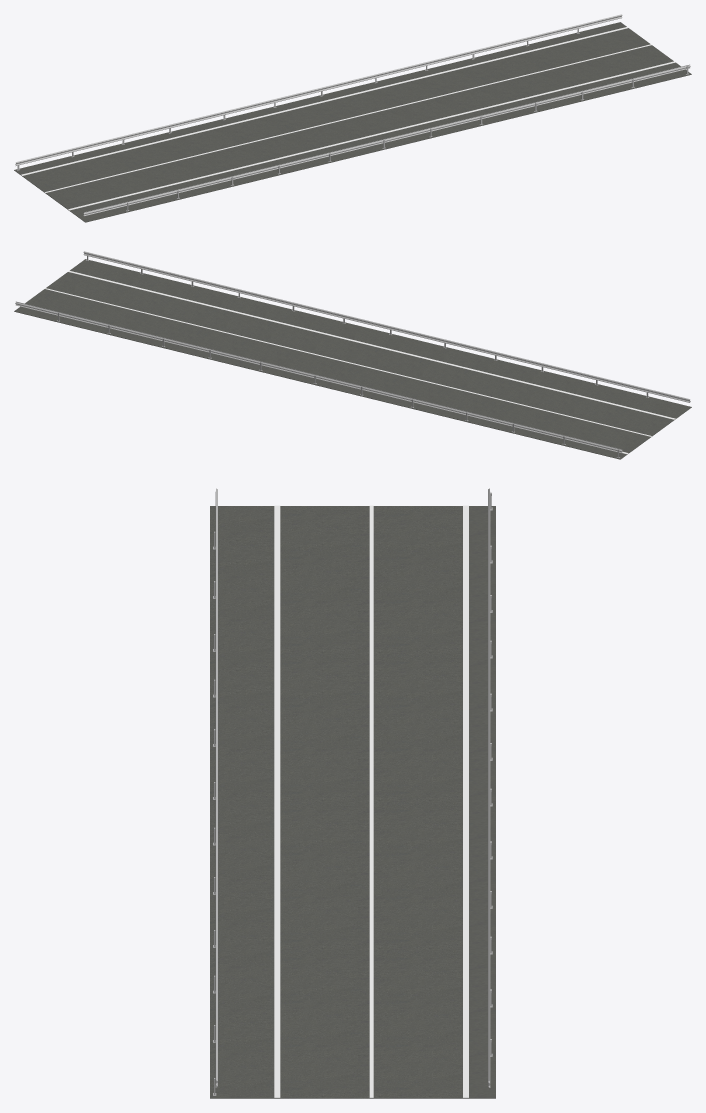
File: sweethome3d-scopia-highway-2-lanes.glb
3 views of the same model, one above another, from view 1: azimuth 30°, elevation 25°; view 2: azimuth 150°, elevation 25°; view 3: azimuth 270°, elevation 25° (orthographic). The views are drawn at different scales.
Parts seen in each view (by area): view 1: autoroute2Voies_Plane.032, rails2voisAutoroute_Plane.025; view 2: autoroute2Voies_Plane.032, rails2voisAutoroute_Plane.025; view 3: autoroute2Voies_Plane.032, rails2voisAutoroute_Plane.025.
Boxes of the visible parts, <box> form: autoroute2Voies_Plane.032: <box>14,22,691,222</box>; rails2voisAutoroute_Plane.025: <box>15,14,690,216</box>; autoroute2Voies_Plane.032: <box>14,259,691,459</box>; rails2voisAutoroute_Plane.025: <box>15,251,690,458</box>; autoroute2Voies_Plane.032: <box>210,505,495,1098</box>; rails2voisAutoroute_Plane.025: <box>213,488,492,1095</box>.
Bounding box in the file's own units: 5200 × 75.22 × 1061.
Materials: 14 (3 with a texture image).
